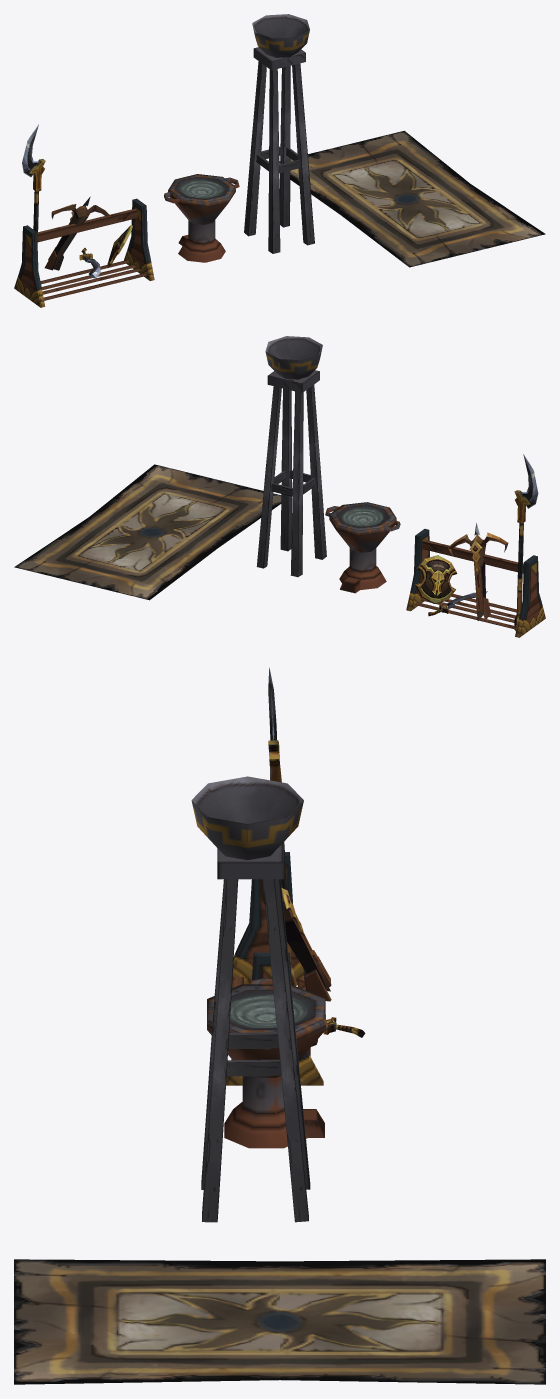
The model's file is 2_SWJ_XiaoWuJian_01.FBX.
3 views of the same model, one above another, from view 1: azimuth 30°, elevation 25°; view 2: azimuth 150°, elevation 25°; view 3: azimuth 270°, elevation 25° (orthographic). The views are drawn at different scales.
Parts seen in each view (by area): view 1: 2_SWJ_TanZi_01, 2_SWJ_HuoPen_01, 2_SWJ_WuQiJia_01, 2_SWJ_HuoGuo_01, 2_SWJ_WuQi_03, 2_SWJ_WuQi_04; view 2: 2_SWJ_TanZi_01, 2_SWJ_HuoPen_01, 2_SWJ_WuQiJia_01, 2_SWJ_HuoGuo_01, 2_SWJ_WuQi_01, 2_SWJ_WuQi_03, 2_SWJ_WuQi_04; view 3: 2_SWJ_TanZi_01, 2_SWJ_HuoPen_01, 2_SWJ_HuoGuo_01, 2_SWJ_WuQiJia_01, 2_SWJ_WuQi_03, 2_SWJ_WuQi_04.
Boxes of the visible parts, left/top/right/bottom form: 2_SWJ_TanZi_01: left=279, top=130, right=545, bottom=267; 2_SWJ_HuoPen_01: left=244, top=14, right=314, bottom=253; 2_SWJ_WuQiJia_01: left=14, top=198, right=154, bottom=307; 2_SWJ_HuoGuo_01: left=164, top=174, right=239, bottom=262; 2_SWJ_WuQi_03: left=44, top=196, right=109, bottom=270; 2_SWJ_WuQi_04: left=22, top=124, right=45, bottom=232; 2_SWJ_TanZi_01: left=14, top=464, right=281, bottom=600; 2_SWJ_HuoPen_01: left=256, top=336, right=326, bottom=577; 2_SWJ_WuQiJia_01: left=406, top=529, right=545, bottom=637; 2_SWJ_HuoGuo_01: left=325, top=502, right=400, bottom=593; 2_SWJ_WuQi_01: left=415, top=555, right=457, bottom=603; 2_SWJ_WuQi_03: left=448, top=522, right=508, bottom=620; 2_SWJ_WuQi_04: left=514, top=454, right=538, bottom=630; 2_SWJ_TanZi_01: left=14, top=1259, right=545, bottom=1384; 2_SWJ_HuoPen_01: left=191, top=776, right=310, bottom=1222; 2_SWJ_HuoGuo_01: left=207, top=977, right=325, bottom=1148; 2_SWJ_WuQiJia_01: left=226, top=852, right=323, bottom=1085; 2_SWJ_WuQi_03: left=259, top=886, right=331, bottom=1001; 2_SWJ_WuQi_04: left=268, top=667, right=296, bottom=986.
Size of the model in its own units: 950 by 444 by 511.
1 material, 1 textured.
